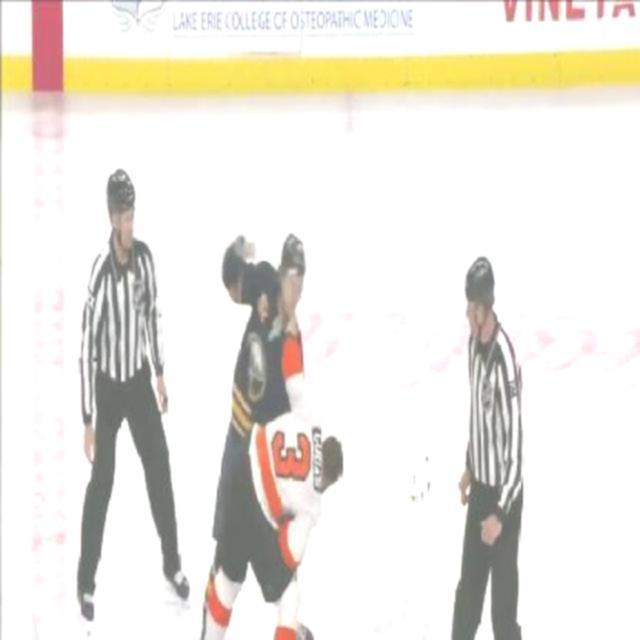fight: (212, 226, 346, 639)
